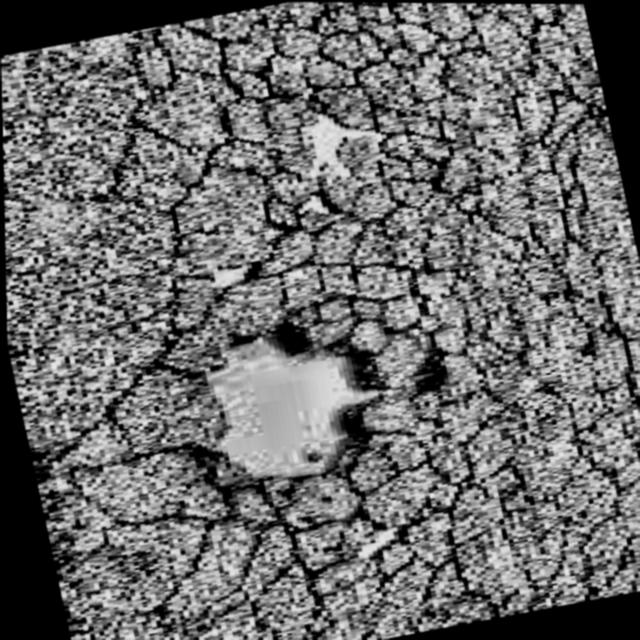alligator_cracks: (134, 1, 498, 338)
